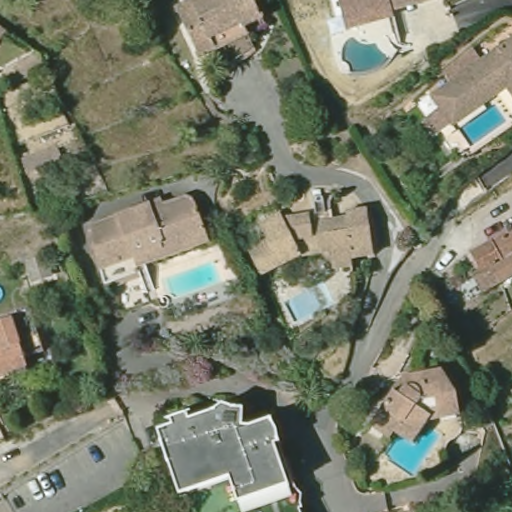pool: (383, 422, 450, 477), (447, 99, 512, 145), (331, 29, 394, 76), (159, 258, 226, 302), (283, 282, 339, 327)
